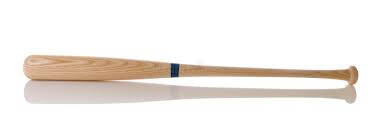bat: (22, 53, 360, 87)
